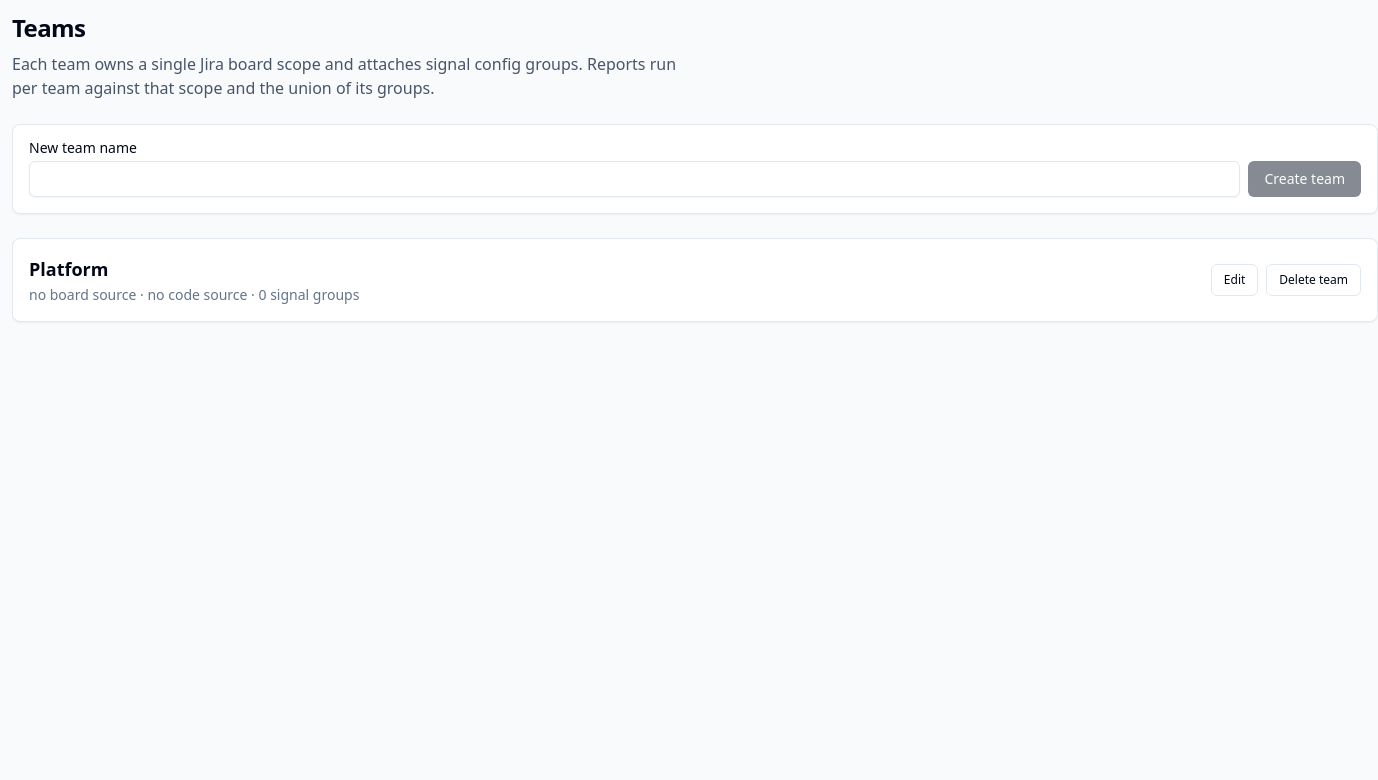
it: TeamsPage — task-board source picker › filters the project list as the user types
Expected: the heading "Platform" is shown, [29,257,108,281]
Click the button with aria-label "Edit Platform" at (1235, 280), box [1211,264,1258,296]
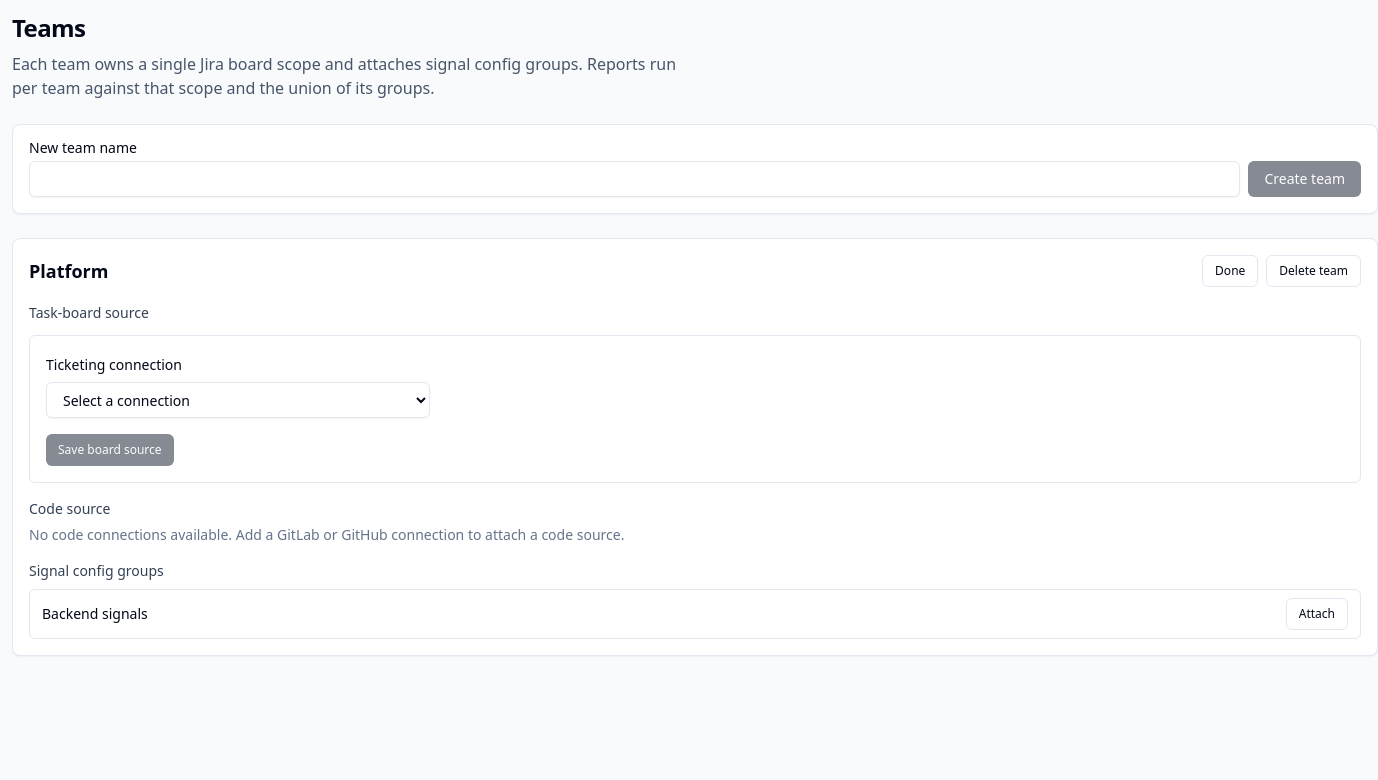
Select "Acme Jira" in the dropdown labelled "Ticketing connection" at (238, 400), box [46,382,430,418]
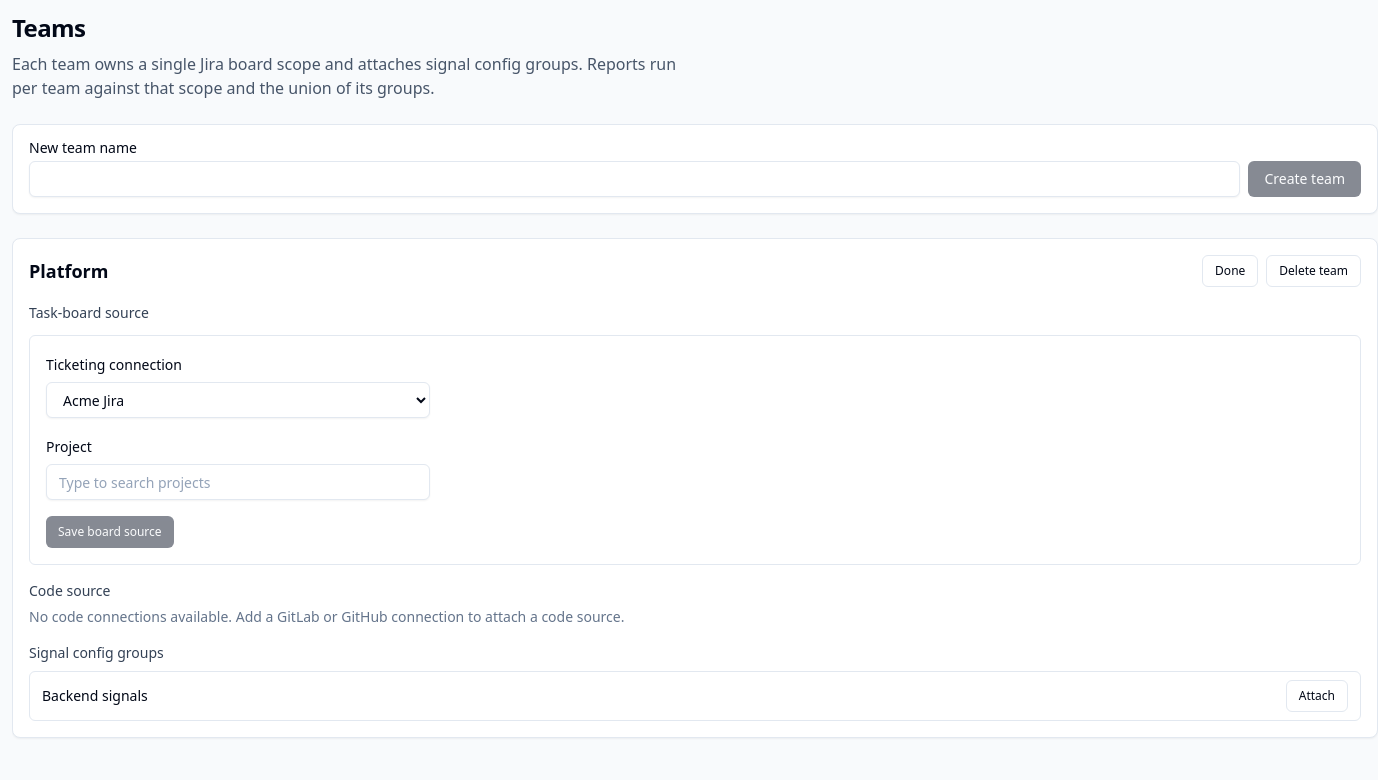
Expected: the dropdown labelled "Project" is enabled
Focus the dropdown labelled "Project" at (238, 482), box [46,464,430,500]
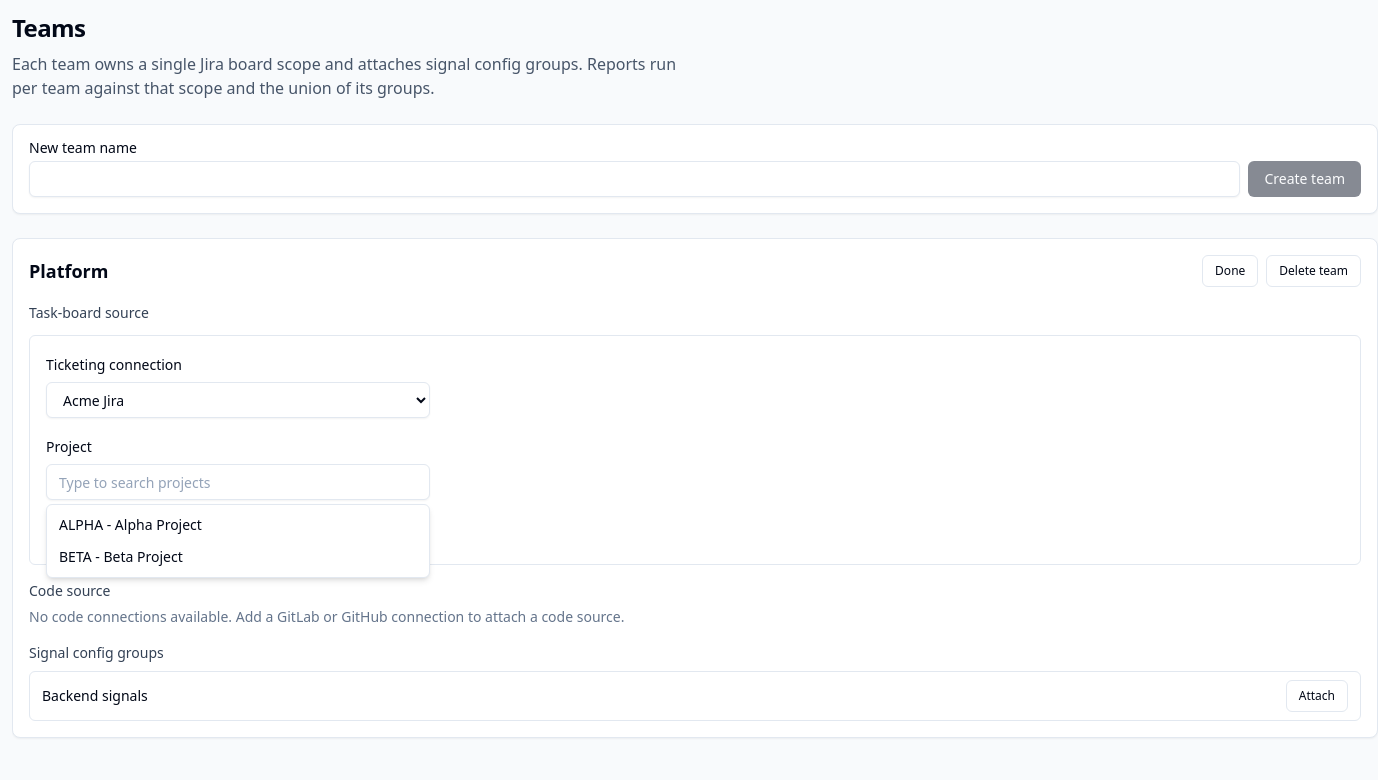
Expected: the option "ALPHA - Alpha Project" is shown, [59,515,202,534]
Expected: the option "BETA - Beta Project" is shown, [59,547,183,566]
Type "beta" into the dropdown labelled "Project" at (238, 482), box [46,464,430,500]
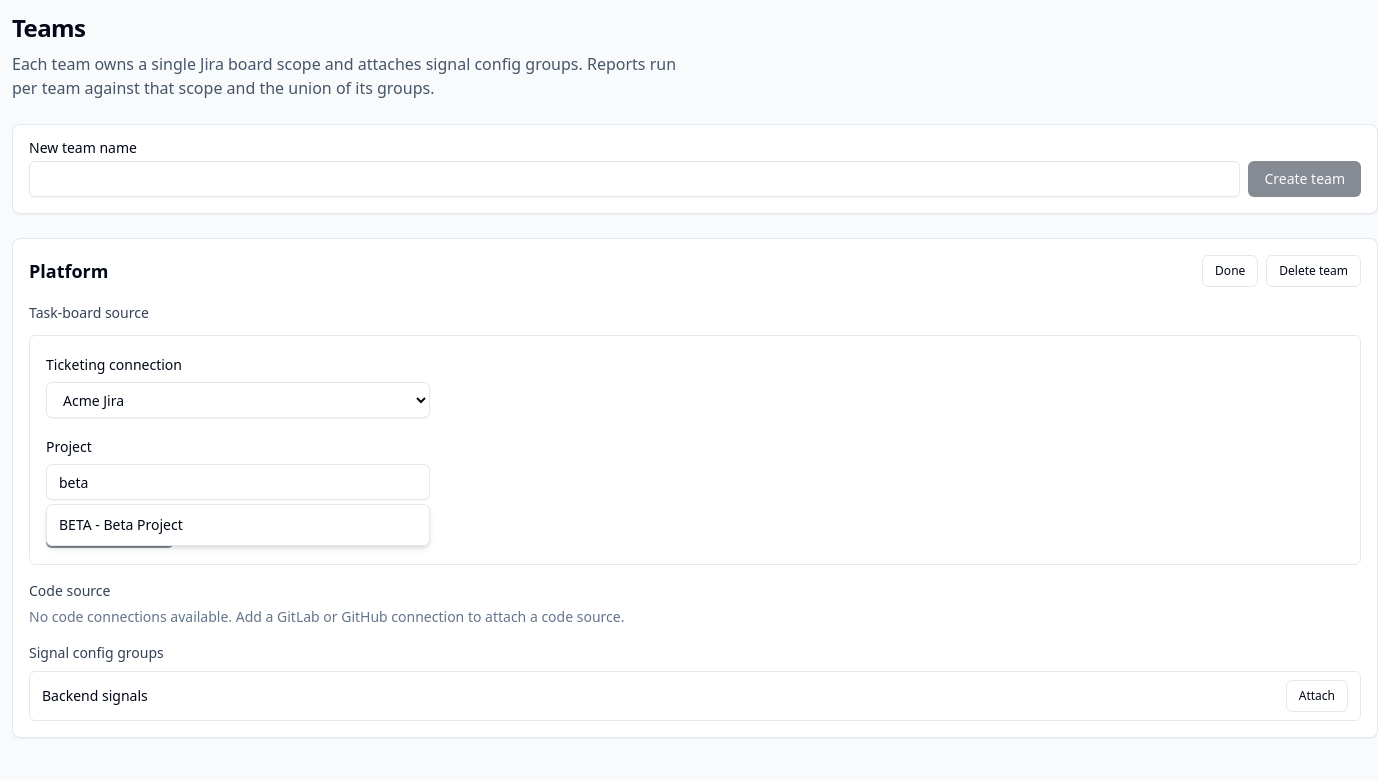
Expected: the option "BETA - Beta Project" is shown, [59,515,183,534]
Expected: the option "Alpha Project" is gone
